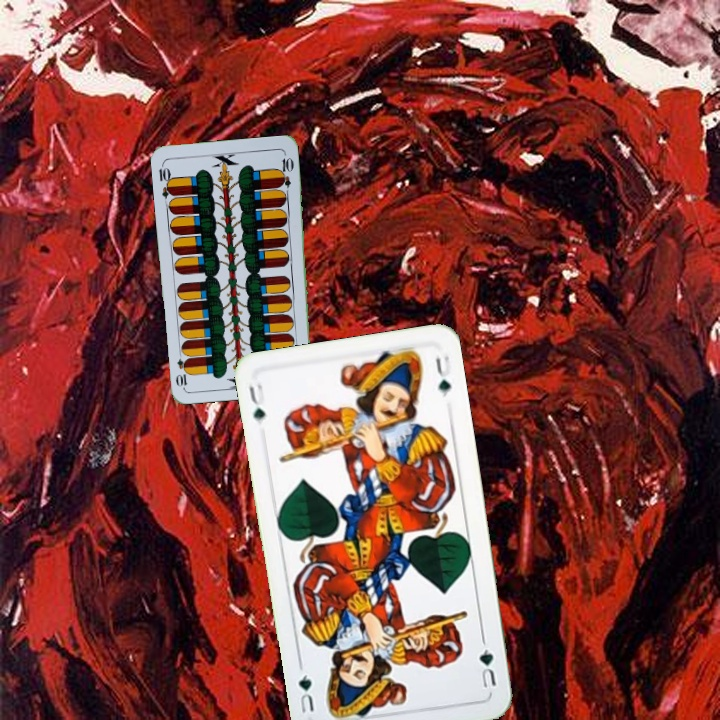E10: (155, 160, 176, 200)
GU: (475, 635, 499, 691), (245, 380, 269, 423)
